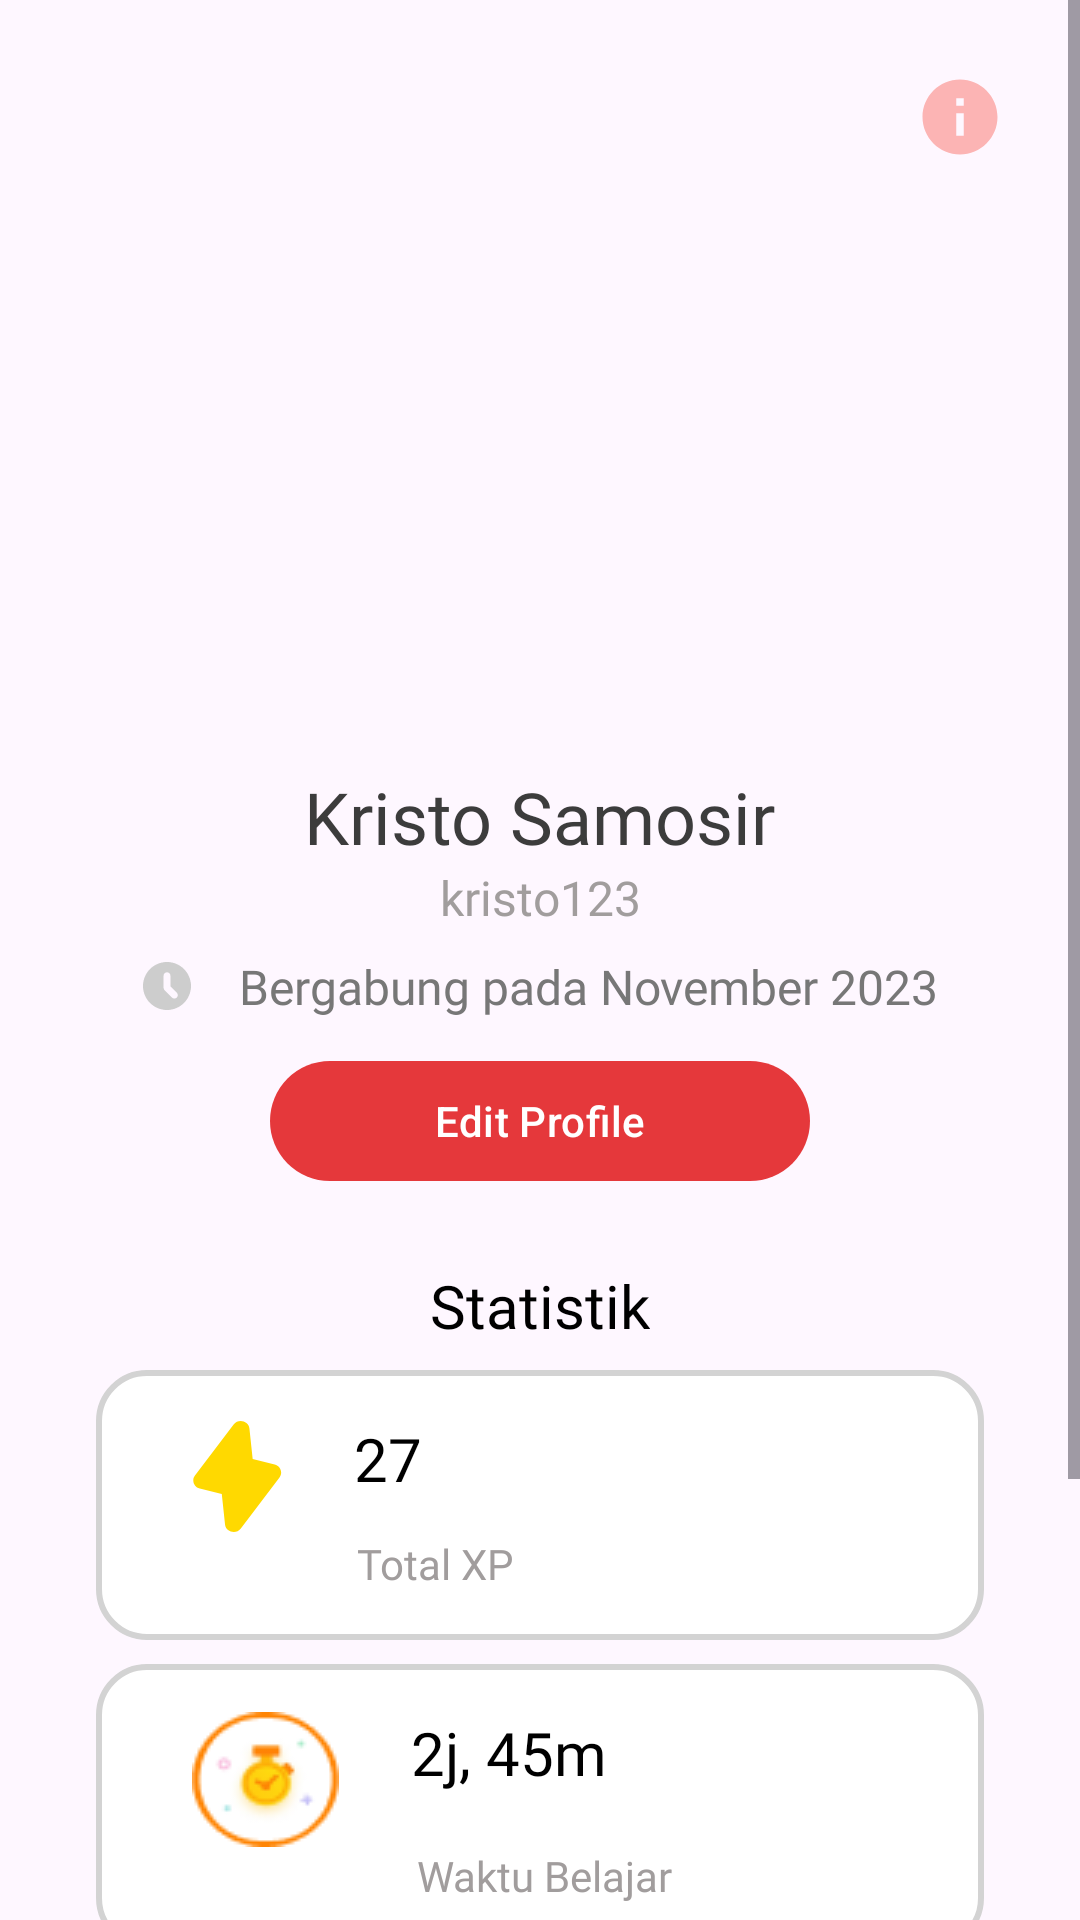

Where icons sit on this 1080x1920 app screen, as (x1, y1, x2, y2):
info: (922, 79, 998, 155)
